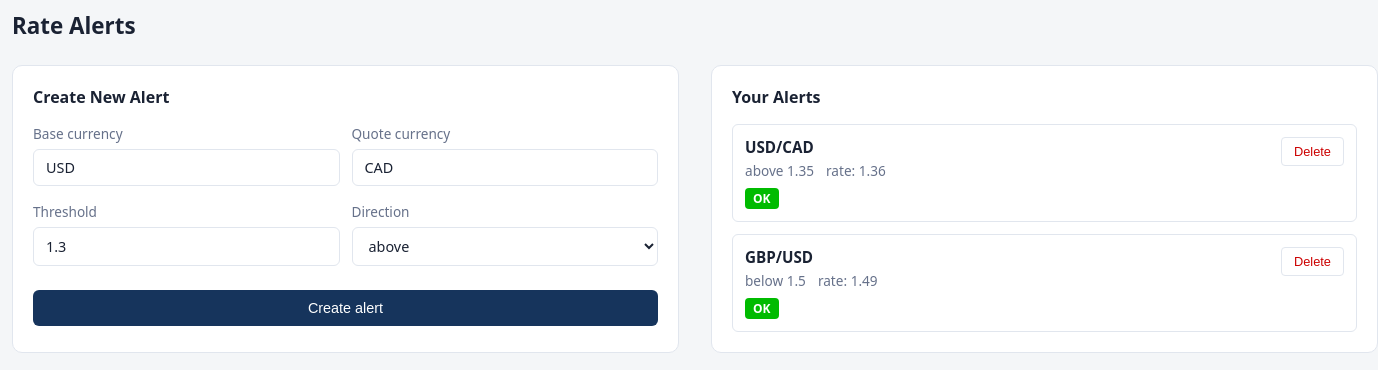
AlertsPanel › deleting alerts › multiple alerts can be deleted independently
Expected: the number of elements with class "alert-row" is 2, [732,124,1357,222]; [732,234,1357,332]
Click the button with class "delete-btn" in the row of "rate: 1.36" at [1312, 152], box [1281,137,1344,166]
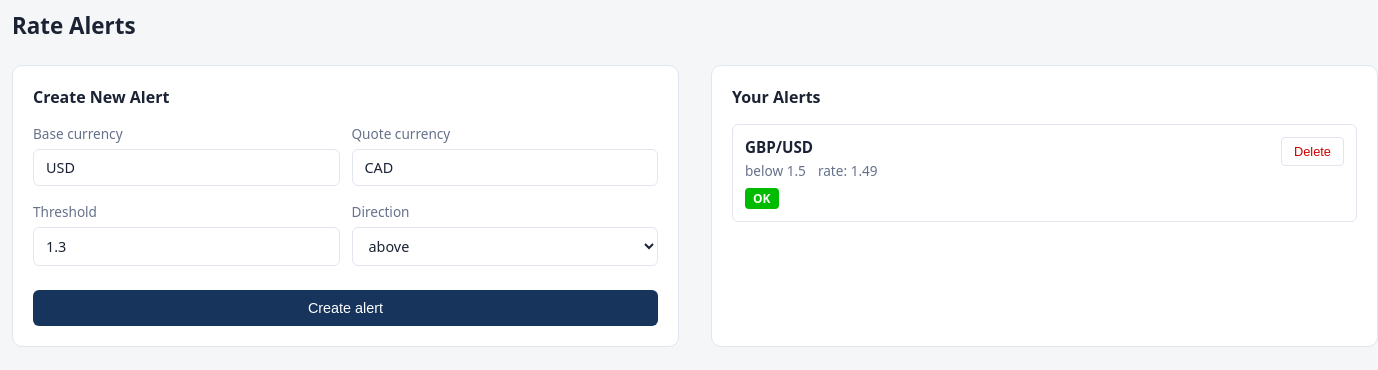
Expected: the text "GBP/USD" is shown, [745,137,813,157]
Result: the number of elements with class "alert-row" is 1 at [732,124,1357,222]
Result: the text "USD/CAD" is gone
